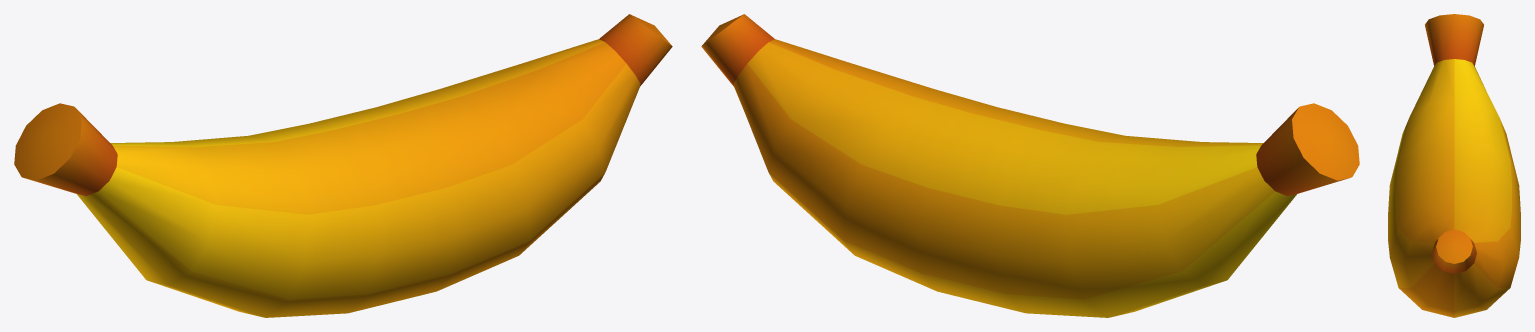
File: Banana_01.glb
3 views of the same model, side by side, from view 1: azimuth 30°, elevation 25°; view 2: azimuth 150°, elevation 25°; view 3: azimuth 270°, elevation 25° (orthographic). The views are drawn at different scales.
Parts seen in each view (by area): view 1: Banana_01; view 2: Banana_01; view 3: Banana_01.
Boxes of the visible parts, x1,y1,x2,y2 form: Banana_01: [14, 14, 672, 317]; Banana_01: [701, 14, 1359, 317]; Banana_01: [1388, 14, 1520, 317].
Size of the model in its own units: 0.6178 by 0.2384 by 0.1634.
Materials: 1 (1 with a texture image).
